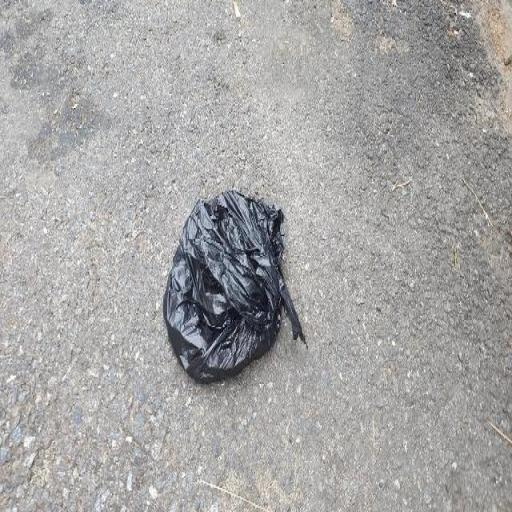plastic-bag: (162, 186, 309, 389)
